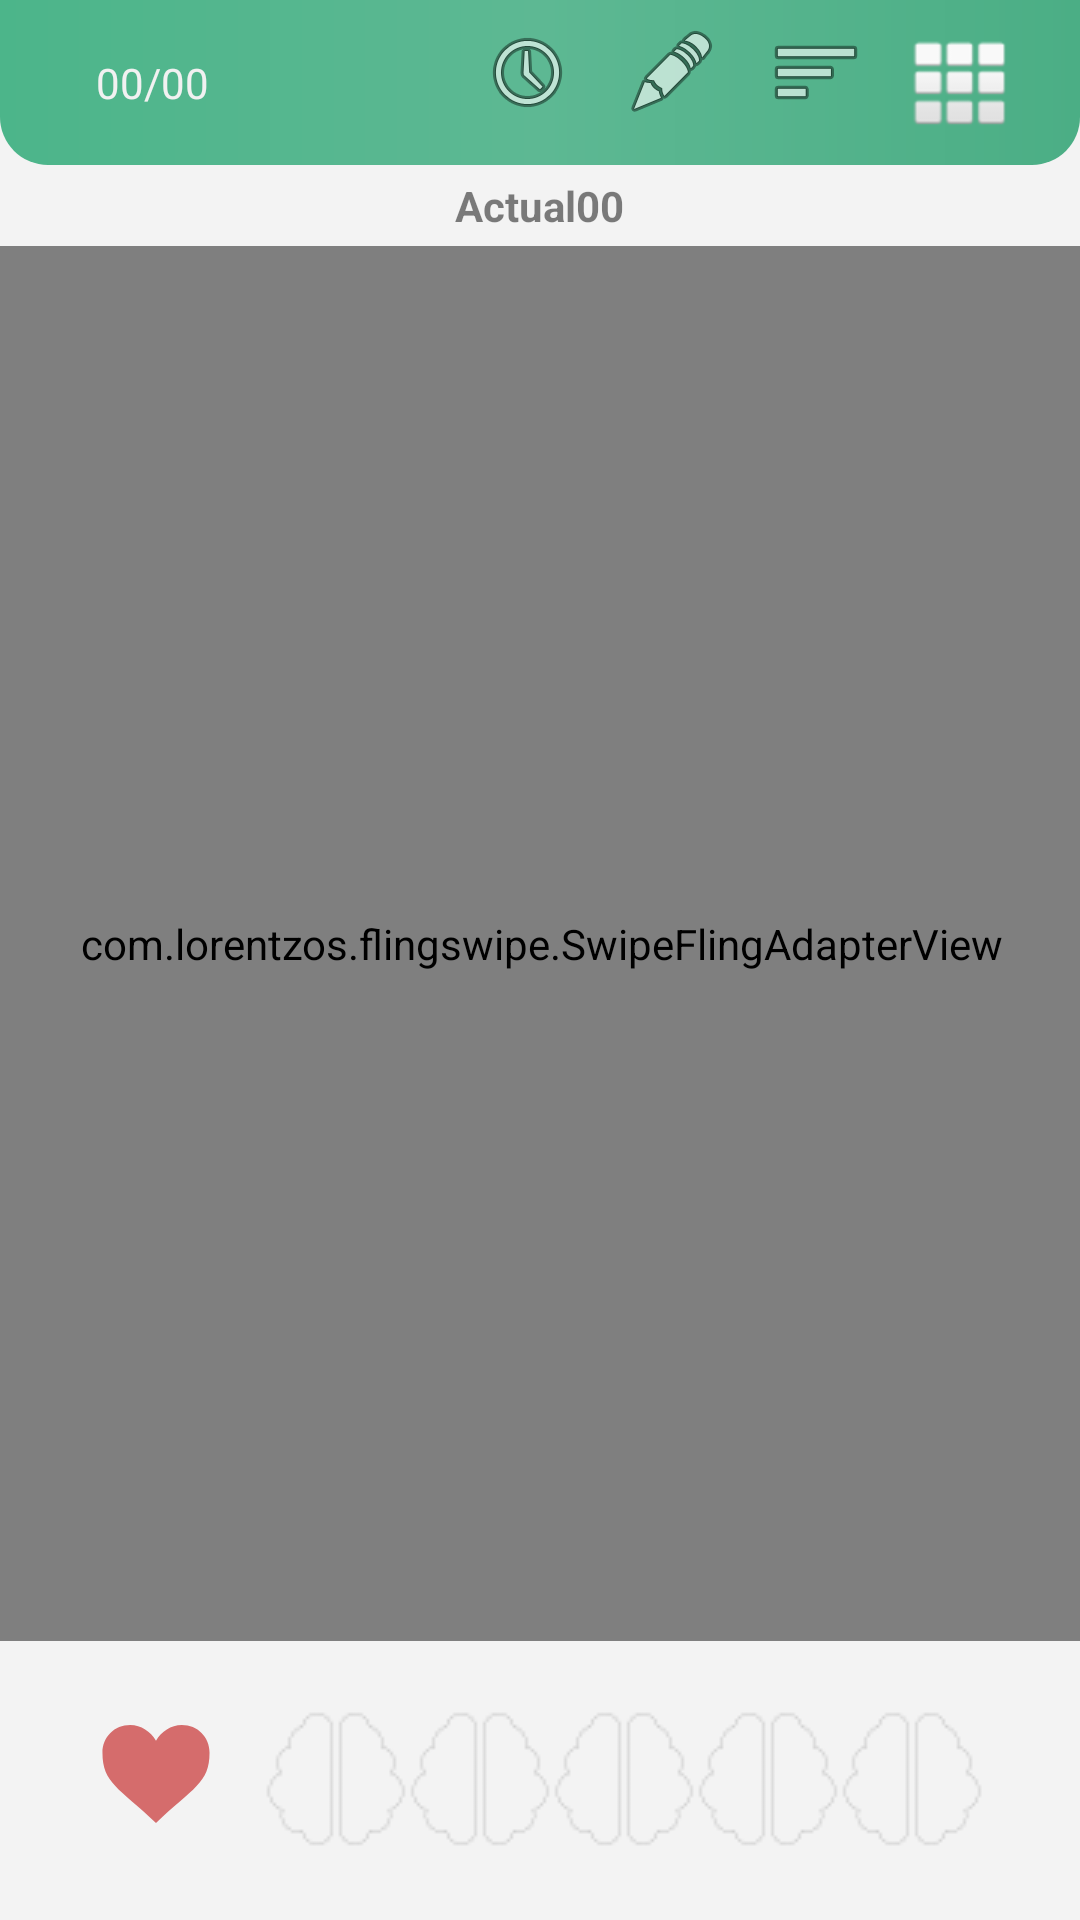

Named icons in this screenshot (1080×1920) and their centers, [x,y]:
dialer: [959,83]
edit: [671,71]
heart: [156,1774]
recent history: [527,72]
sort by size: [816,72]
